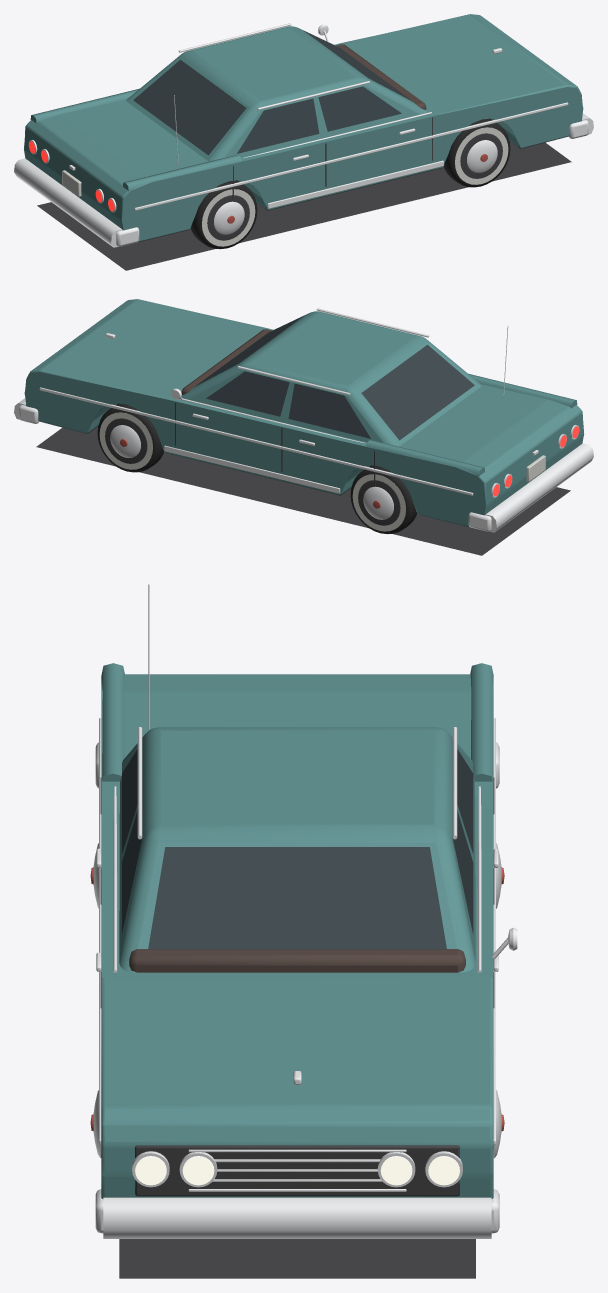
Rendered from car_sedan.glb.
3 renders of one model, top to bottom at view 1: azimuth 30°, elevation 25°; view 2: azimuth 150°, elevation 25°; view 3: azimuth 270°, elevation 25°, orthographic. The views are drawn at different scales.
Visible parts, largest first — view 1: car_sedan; view 2: car_sedan; view 3: car_sedan.
Part boxes in pixels (x1,y1,x2,y2): car_sedan: [14, 14, 593, 270]; car_sedan: [14, 299, 593, 555]; car_sedan: [90, 584, 517, 1278].
Size of the model in its own units: 5.63 by 1.75 by 2.15.
